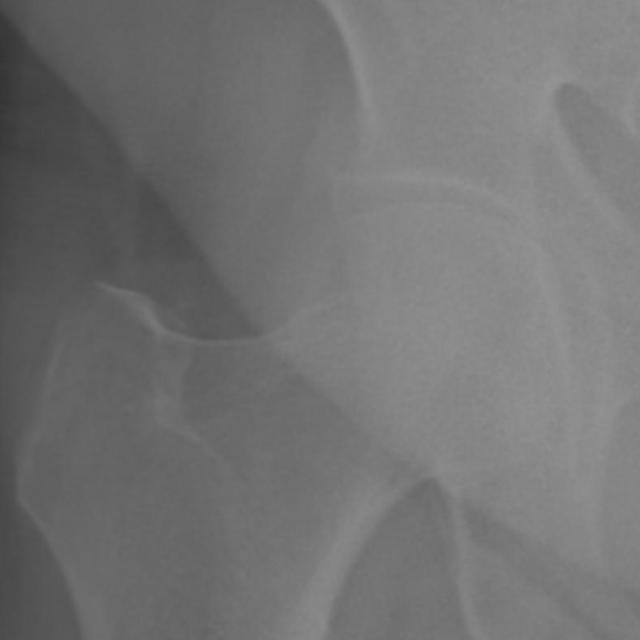Fitted_femural_head: (282, 198, 432, 282)
